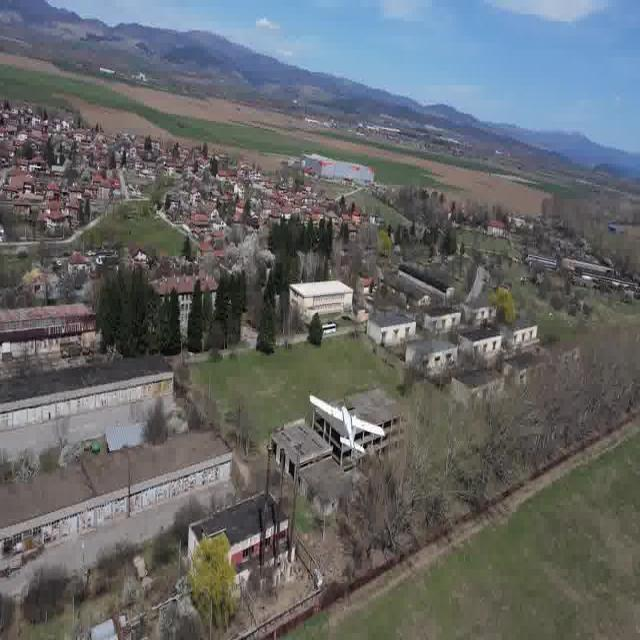iha: (339, 423, 356, 429)
